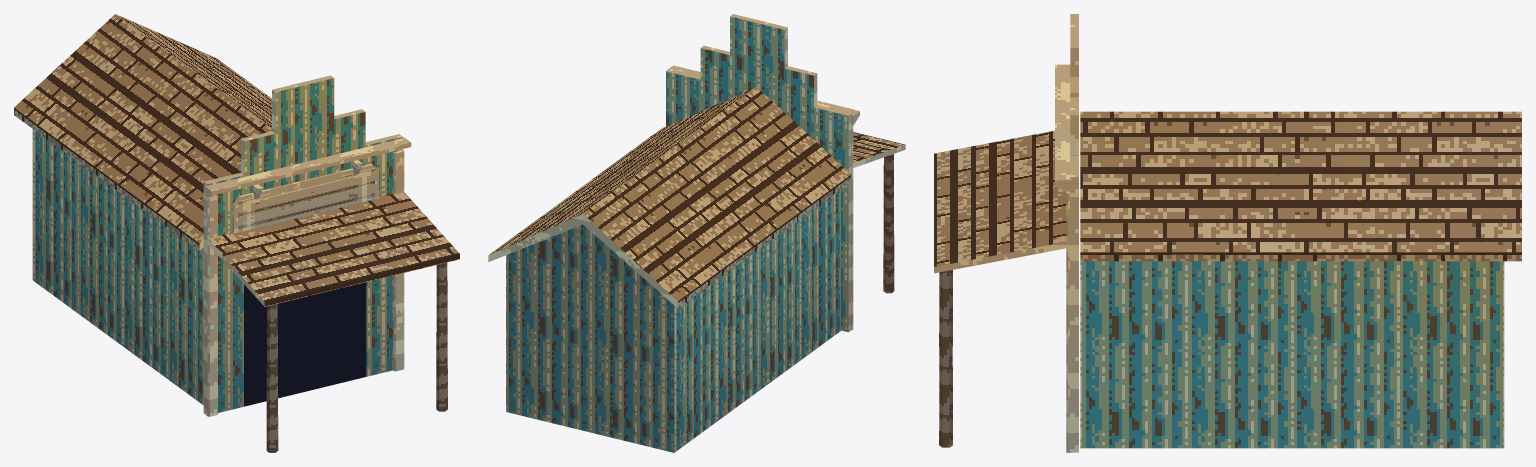
The model's file is wtown.facade__entry.glb.
3 renders of one model, left to right at view 1: azimuth 30°, elevation 25°; view 2: azimuth 150°, elevation 25°; view 3: azimuth 270°, elevation 25°, orthographic. The views are drawn at different scales.
Visible parts, largest first — view 1: kit_roof, kit_body, kit_porch, kit_front, kit_card_panes, kit_trim; view 2: kit_body, kit_roof, kit_front, kit_porch, kit_trim; view 3: kit_body, kit_roof, kit_porch, kit_trim, kit_front.
Boxes of the visible parts, box(x1,y1,x2,y2) form: kit_roof: box(14, 14, 271, 250); kit_body: box(32, 129, 203, 405); kit_porch: box(208, 192, 459, 452); kit_front: box(203, 75, 402, 414); kit_card_panes: box(238, 169, 374, 406); kit_trim: box(204, 137, 411, 416); kit_body: box(506, 189, 840, 452); kit_roof: box(488, 87, 851, 308); kit_front: box(666, 14, 851, 332); kit_porch: box(853, 132, 905, 293); kit_trim: box(667, 65, 859, 330); kit_body: box(1080, 261, 1504, 448); kit_roof: box(1080, 111, 1521, 261); kit_porch: box(934, 130, 1067, 447); kit_trim: box(1055, 64, 1071, 452); kit_front: box(1070, 14, 1078, 452).
Size of the model in its own units: 3.94 by 5.7 by 8.32.
Materials: 6 (6 with a texture image).
